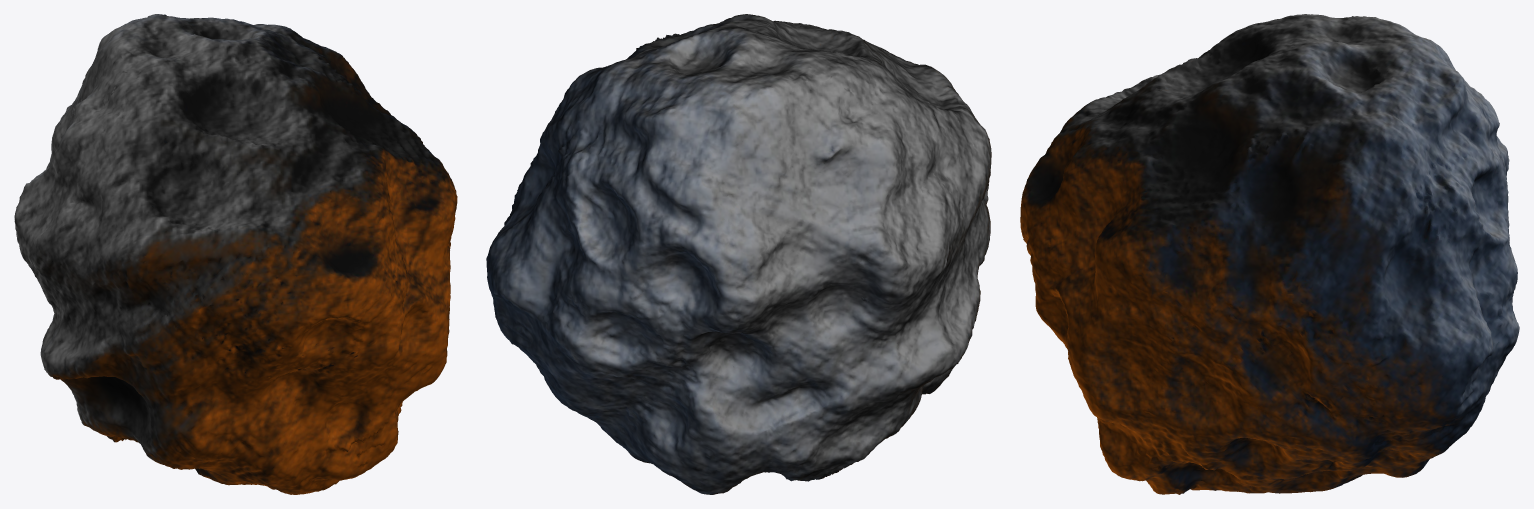
Rendered from asteroid.obj.
3 views of the same model, side by side, from view 1: azimuth 30°, elevation 25°; view 2: azimuth 150°, elevation 25°; view 3: azimuth 270°, elevation 25° (orthographic). The views are drawn at different scales.
Parts seen in each view (by area): view 1: Object001; view 2: Object001; view 3: Object001.
Part boxes in pixels (x1,y1,x2,y2): Object001: (14,14,457,494); Object001: (486,14,991,494); Object001: (1020,14,1519,494).
Bounding box in the file's own units: 536 × 543 × 568.
1 material, 1 textured.
